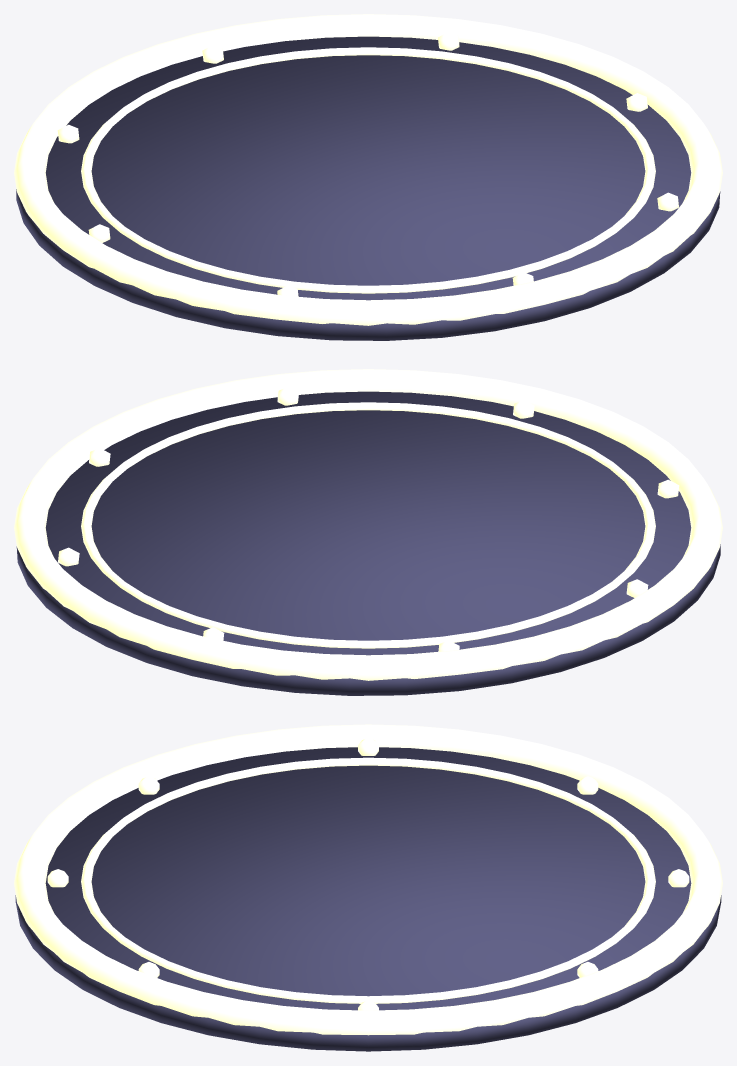
Rendered from medallion.glb.
The picture shows the model from 3 angles, top to bottom: view 1: azimuth 30°, elevation 25°; view 2: azimuth 150°, elevation 25°; view 3: azimuth 270°, elevation 25°; orthographic projection.
Parts seen in each view (by area): view 1: Disc, Rim, RimIn; view 2: Disc, Rim, RimIn; view 3: Disc, Rim, RimIn.
Part boxes in pixels (<box>): Disc: <box>16,36,720,340</box>; Rim: <box>14,14,722,325</box>; RimIn: <box>81,47,655,293</box>; Disc: <box>16,391,720,695</box>; Rim: <box>14,369,722,680</box>; RimIn: <box>81,402,655,648</box>; Disc: <box>15,747,721,1051</box>; Rim: <box>14,724,722,1035</box>; RimIn: <box>81,757,655,1003</box>.
Size of the model in its own units: 2.01 by 0.105 by 2.01.
